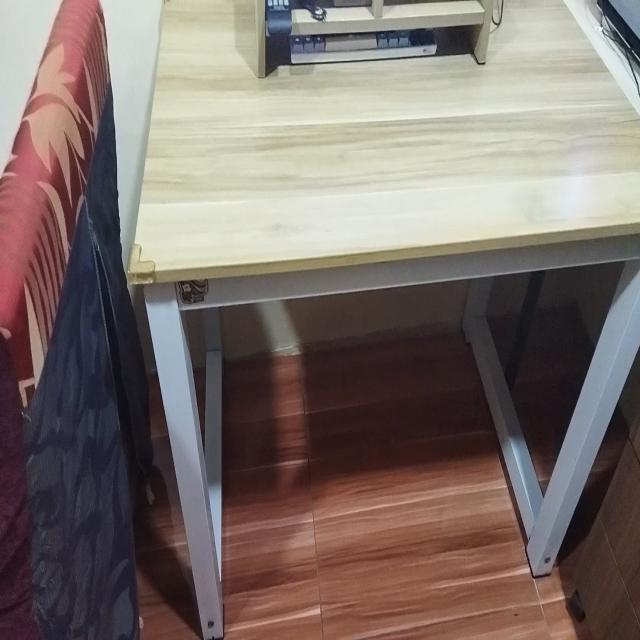table: (125, 0, 640, 630)
